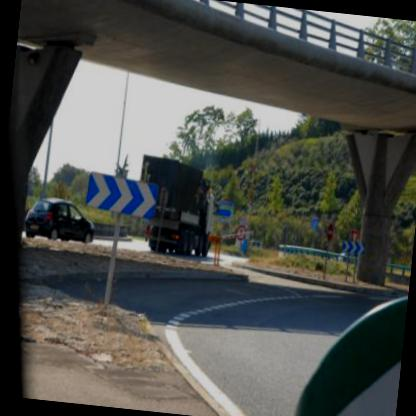car: (23, 194, 95, 246)
